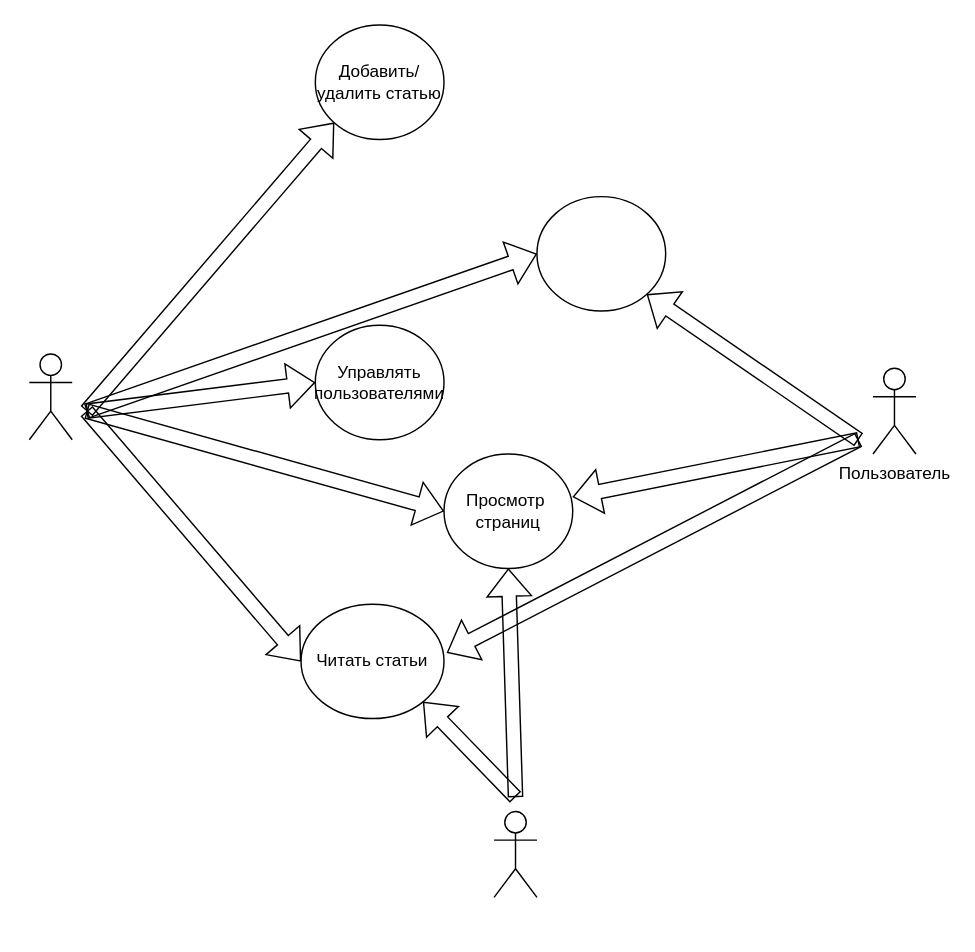
This 975x952 diagram has some shape labels left out. Each missing label, with the centre of its shape:
Админ: (50,396)
Гость: (515,853)
Оставить коментарии: (601,253)
